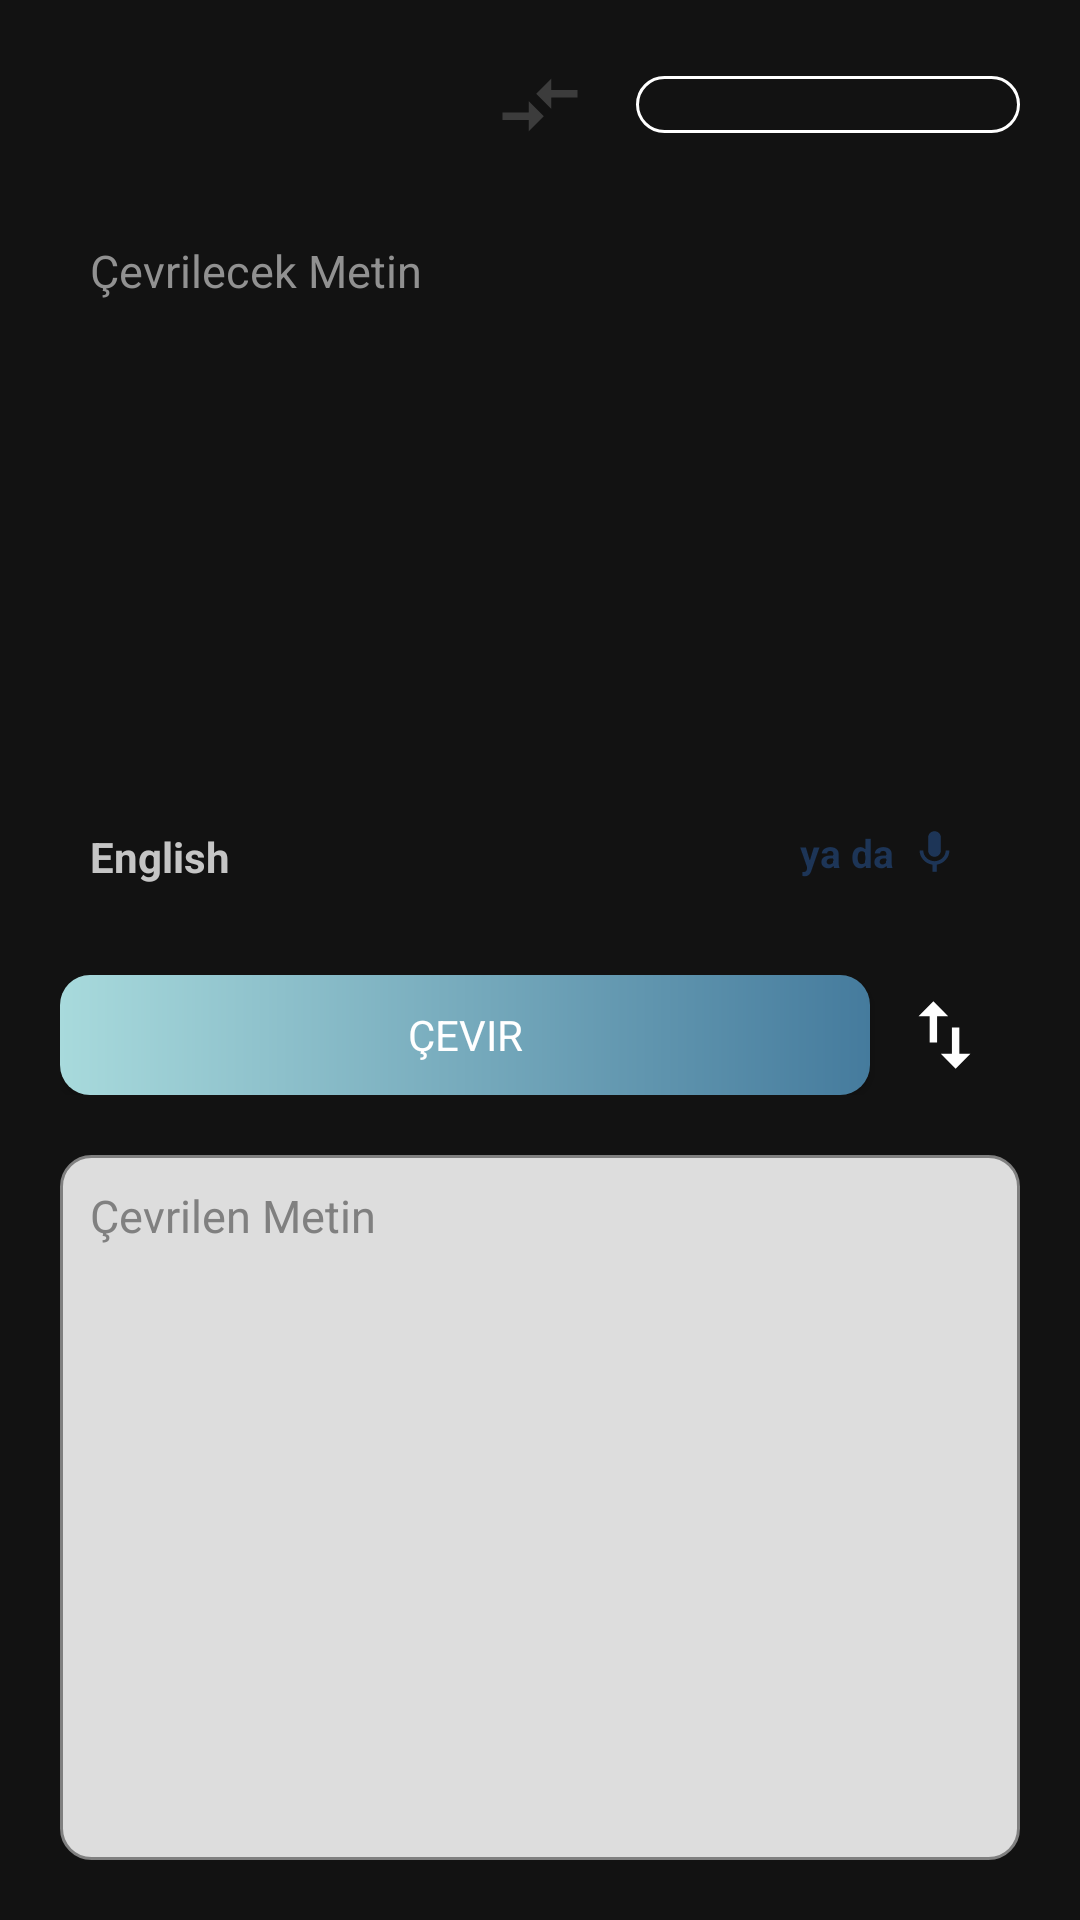

Screen size 1080 × 1920. Icon name, then its box in pixels as (x1, y1, x2, y2):
change language: (919, 1001, 970, 1069)
compare arrow: (503, 80, 577, 130)
mic: (920, 831, 949, 872)
